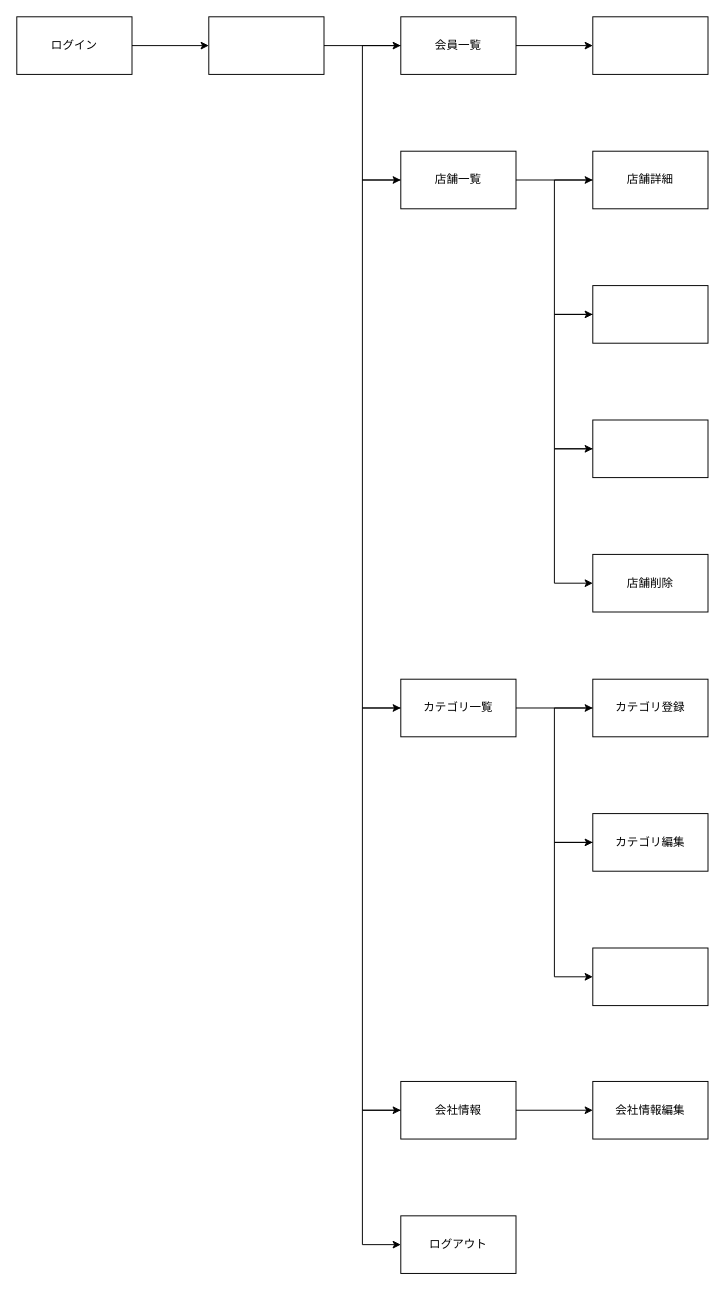
Some shapes in this 725 by 1290 pixel diagram are drawn without their labels. The shapes that lost their labels are listed below. From the top down, each one's centre as x and y in pixels, then its label:
At point (266, 45): "管理画面".
At point (650, 45): "会員詳細".
At point (650, 314): "店舗登録".
At point (650, 448): "店舗編集".
At point (650, 976): "カテゴリ削除".
